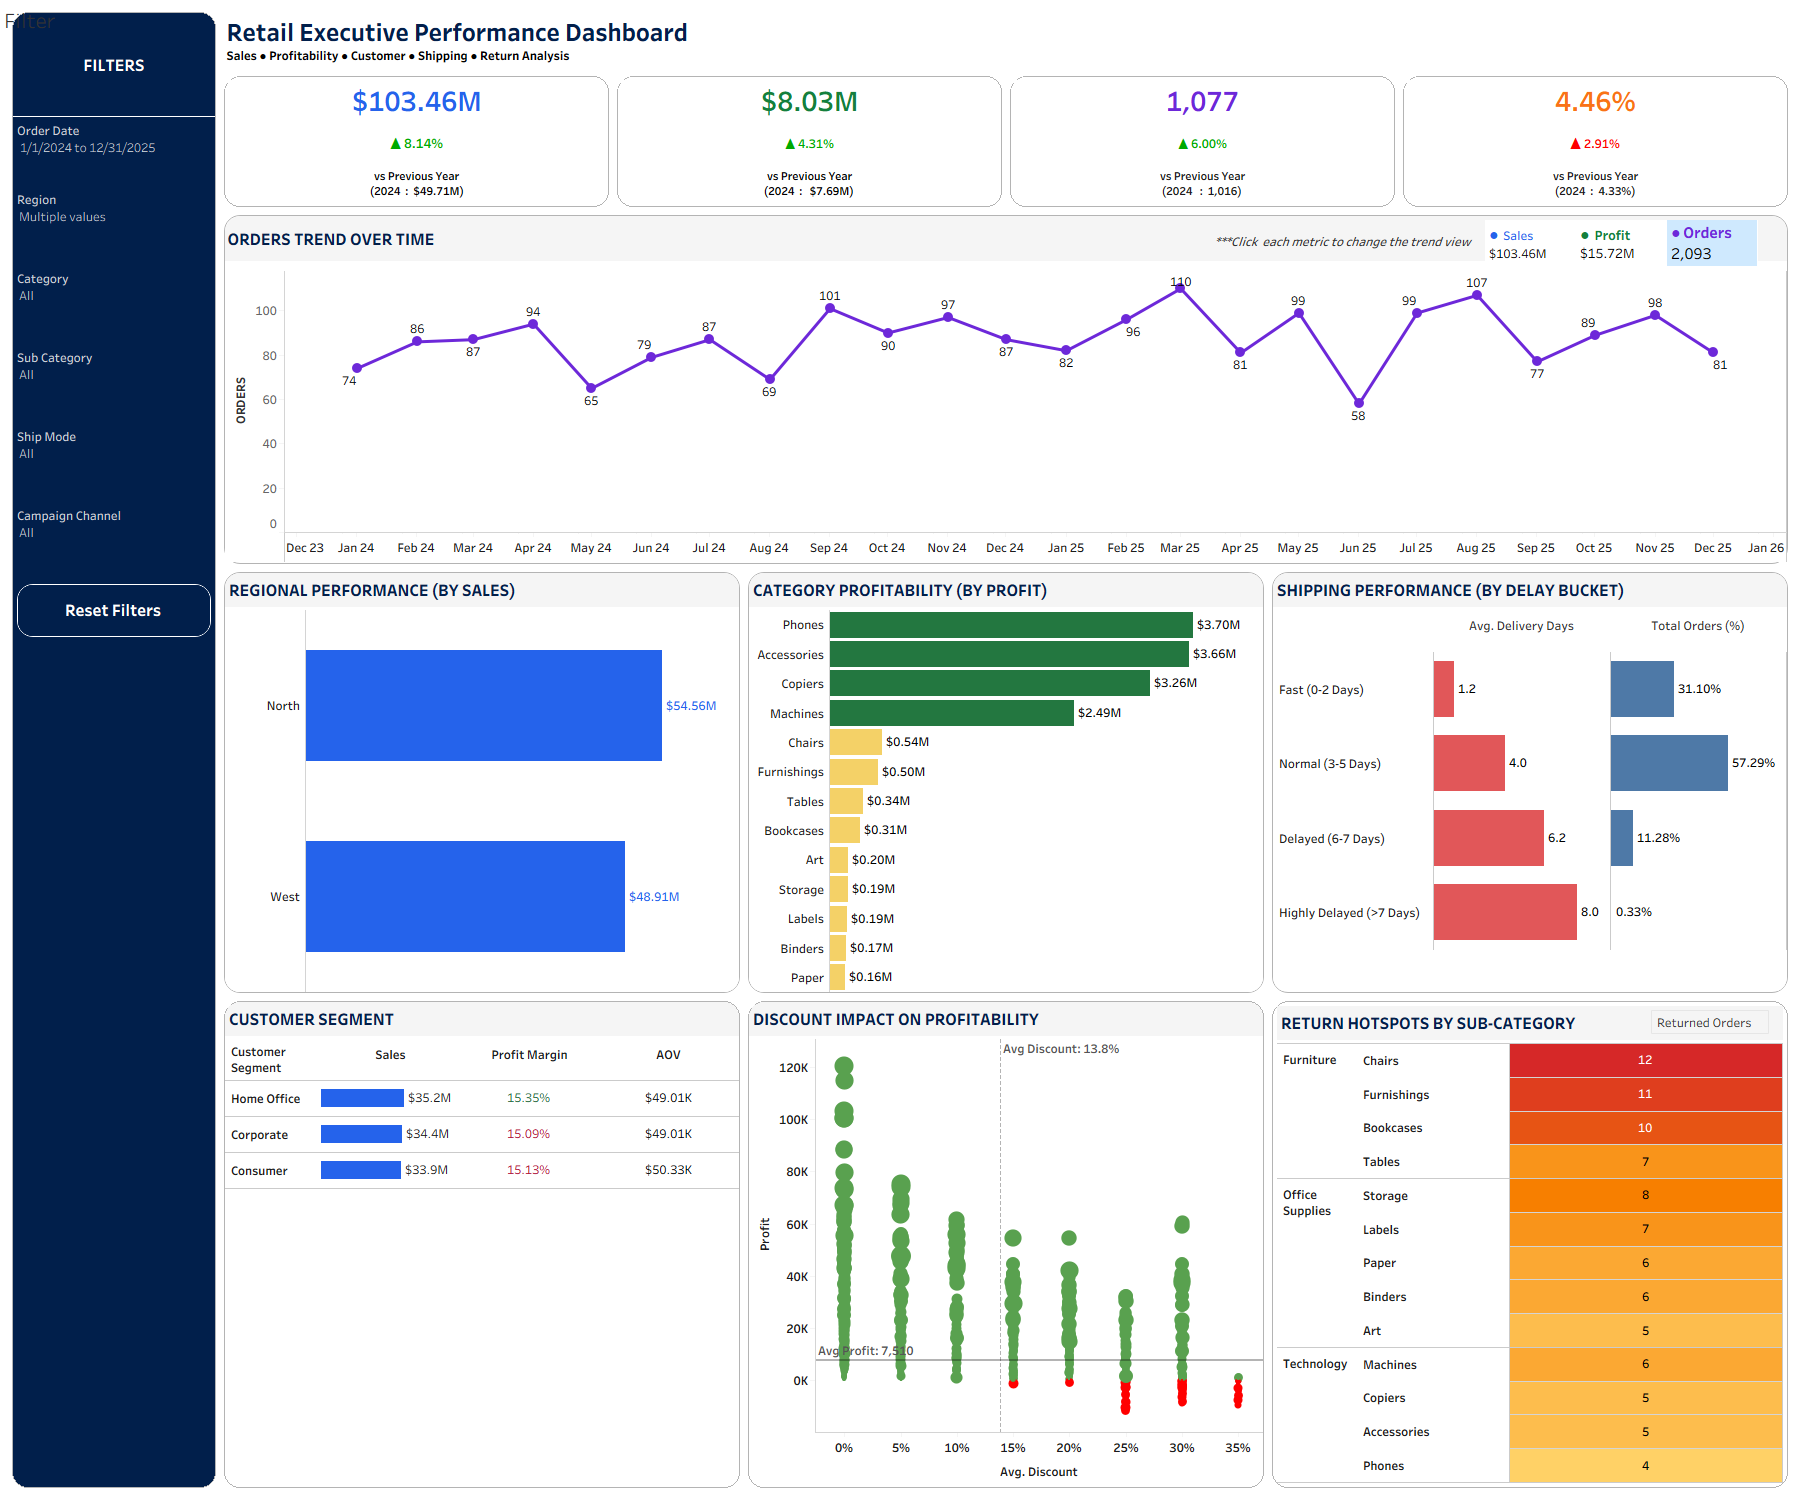

This screenshot's page, from the dashboard's own definition file:
{"tool":"tableau","page":{"name":"Retail Executive Performance Dashboard","canvas":[1800,1500],"ordinal":0},"visuals":[{"type":"worksheet","title":"Filter","mark":"Automatic","box":[0,0,1,1]},{"type":"text","box":[219.6,8,1572.4,64]},{"type":"text","box":[13,13,201.6,103]},{"type":"worksheet","title":"KPI - Sales","mark":"Square","box":[220,72,393,139]},{"type":"worksheet","title":"KPI - Profit","mark":"Square","box":[613,72,393,139]},{"type":"worksheet","title":"KPI - Orders","mark":"Square","box":[1006,72,393,139]},{"type":"worksheet","title":"KPI - Return Rate","mark":"Square","box":[1399,72,393,139]},{"type":"blank","box":[13,116,201.6,1]},{"type":"filter","title":"Filter","param":"[federated.1k62u9d15if11v11mv8w31dpu8bw].[none:order_date:qk]","box":[13,117,201.6,69]},{"type":"filter","title":"Filter","param":"[federated.1k62u9d15if11v11mv8w31dpu8bw].[none:region:nk]","box":[13,186,202,79]},{"type":"text","box":[224.6,216,1562.4,45]},{"type":"worksheet","title":"Sales","mark":"Automatic","box":[1485,220,91,46]},{"type":"worksheet","title":"Profit","mark":"Automatic","box":[1576,220,91,46]},{"type":"worksheet","title":"Orders","mark":"Automatic","box":[1667,220,90,46]},{"type":"text","box":[1212,226,263,30]},{"type":"worksheet","title":"Trend Over time Orders","mark":"Automatic","rows":["Calculation_0691335389483042","Calculation_0691335389483042"],"cols":["order_date"],"box":[224.6,261,1562.4,302]},{"type":"worksheet","title":"Trend Over time","mark":"Automatic","rows":["Calculation_0691335389483042","Calculation_0691335389483042"],"cols":["order_date"],"box":[224.6,261,1562.4,302]},{"type":"filter","title":"Filter","param":"[federated.1k62u9d15if11v11mv8w31dpu8bw].[none:category:nk]","box":[13,265,202,79]},{"type":"filter","title":"Filter","param":"[federated.1k62u9d15if11v11mv8w31dpu8bw].[none:sub_category:nk]","box":[13,344,202,79]},{"type":"filter","title":"Filter","param":"[federated.1k62u9d15if11v11mv8w31dpu8bw].[none:ship_mode:nk]","box":[13,423,202,79]},{"type":"filter","title":"Filter","param":"[federated.1k62u9d15if11v11mv8w31dpu8bw].[none:campaign_channel:nk]","box":[13,502,202,78]},{"type":"worksheet","title":"Regional Performance","mark":"Bar","rows":["region"],"cols":["sales"],"box":[220,568,524,429]},{"type":"worksheet","title":"Category Profitability","mark":"Bar","rows":["sub_category"],"cols":["profit"],"box":[744,568,524,429]},{"type":"worksheet","title":"Shipping Delay","mark":"Automatic","rows":["Calculation_0691334957989892"],"cols":["delivery_days","Calculation_0691335421763621","Calculation_0691334958067717","Calculation_0691335421763621"],"box":[1268,568,524,429]},{"type":"worksheet","title":"RESET","mark":"Automatic","box":[13,580,201.6,61]},{"type":"blank","box":[13,641,201.6,846]},{"type":"worksheet","title":"Customer Segment","mark":"Automatic","rows":["customer_segment"],"cols":["sales","Calculation_0691335410819108","Calculation_0691335410819108","Calculation_0691335410819108","Calculation_0691335410819108","Calculation_0691335410819108"],"box":[219.6,997,524.1,495]},{"type":"worksheet","title":"DISCOUNT vs PROFIT - Cust","mark":"Circle","rows":["profit"],"cols":["discount"],"box":[744,997,524,495]},{"type":"worksheet","title":"Return Analysis Orders","mark":"Square","rows":["category","sub_category"],"box":[1273,1002,514,484.9]},{"type":"worksheet","title":"Return Analysis Orders  $","mark":"Square","rows":["category","sub_category"],"box":[1273,1002,514,484.9]},{"type":"worksheet","title":"Return Analysis %","mark":"Square","rows":["category","sub_category"],"box":[1273,1002,514,484.9]},{"type":"parameter","param":"[Parameters].[Parameter 3]","box":[1651,1010,118,24]}]}

Visuals, with their boxes in screenshot pixels (x1, y1, x2, y2), scaled from the page's 1800x1500 canvas onto the 1800x1500 screenshot:
"Filter" worksheet: 0,0,1,1
text: 220,8,1792,72
text: 13,13,215,116
"KPI - Sales" worksheet (Square marks): 220,72,613,211
"KPI - Profit" worksheet (Square marks): 613,72,1006,211
"KPI - Orders" worksheet (Square marks): 1006,72,1399,211
"KPI - Return Rate" worksheet (Square marks): 1399,72,1792,211
blank: 13,116,215,117
"Filter" filter: 13,117,215,186
"Filter" filter: 13,186,215,265
text: 225,216,1787,261
"Sales" worksheet: 1485,220,1576,266
"Profit" worksheet: 1576,220,1667,266
"Orders" worksheet: 1667,220,1757,266
text: 1212,226,1475,256
"Trend Over time Orders" worksheet: 225,261,1787,563
"Trend Over time" worksheet: 225,261,1787,563
"Filter" filter: 13,265,215,344
"Filter" filter: 13,344,215,423
"Filter" filter: 13,423,215,502
"Filter" filter: 13,502,215,580
"Regional Performance" worksheet (Bar marks): 220,568,744,997
"Category Profitability" worksheet (Bar marks): 744,568,1268,997
"Shipping Delay" worksheet: 1268,568,1792,997
"RESET" worksheet: 13,580,215,641
blank: 13,641,215,1487
"Customer Segment" worksheet: 220,997,744,1492
"DISCOUNT vs PROFIT - Cust" worksheet (Circle marks): 744,997,1268,1492
"Return Analysis Orders" worksheet (Square marks): 1273,1002,1787,1487
"Return Analysis Orders  $" worksheet (Square marks): 1273,1002,1787,1487
"Return Analysis %" worksheet (Square marks): 1273,1002,1787,1487
parameter: 1651,1010,1769,1034
